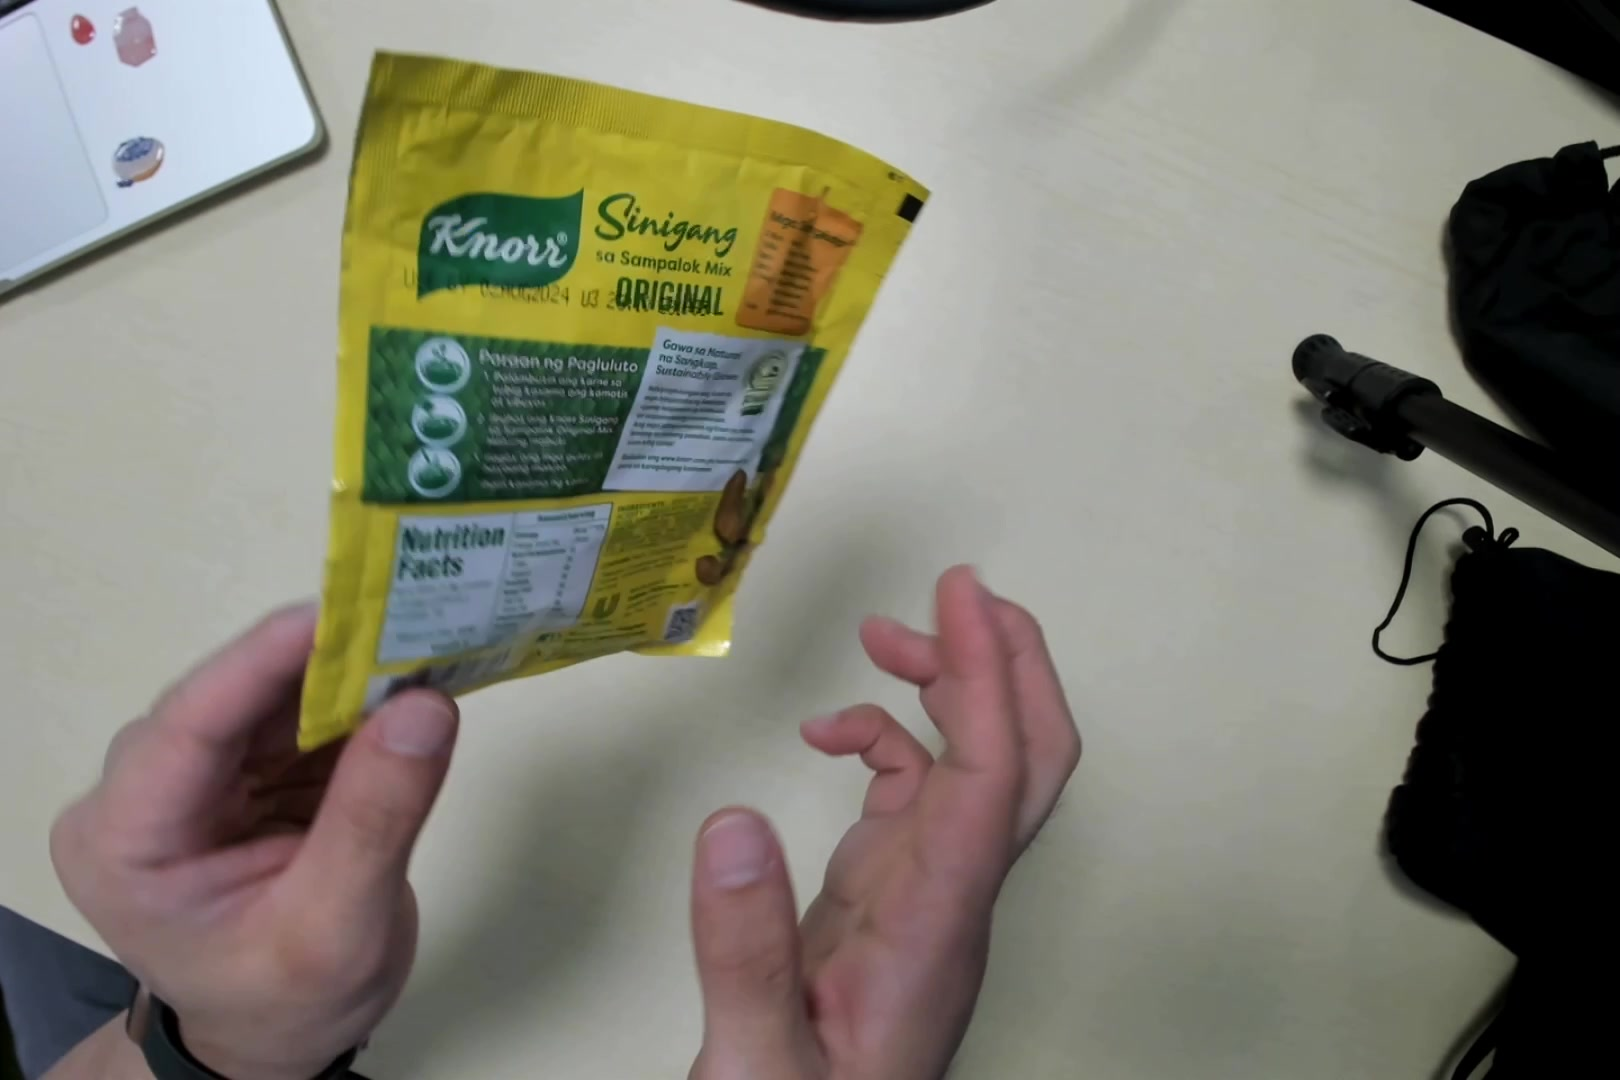SoupStock_0-99g_NonHalal_NonHealthy: (310, 34, 847, 724)
